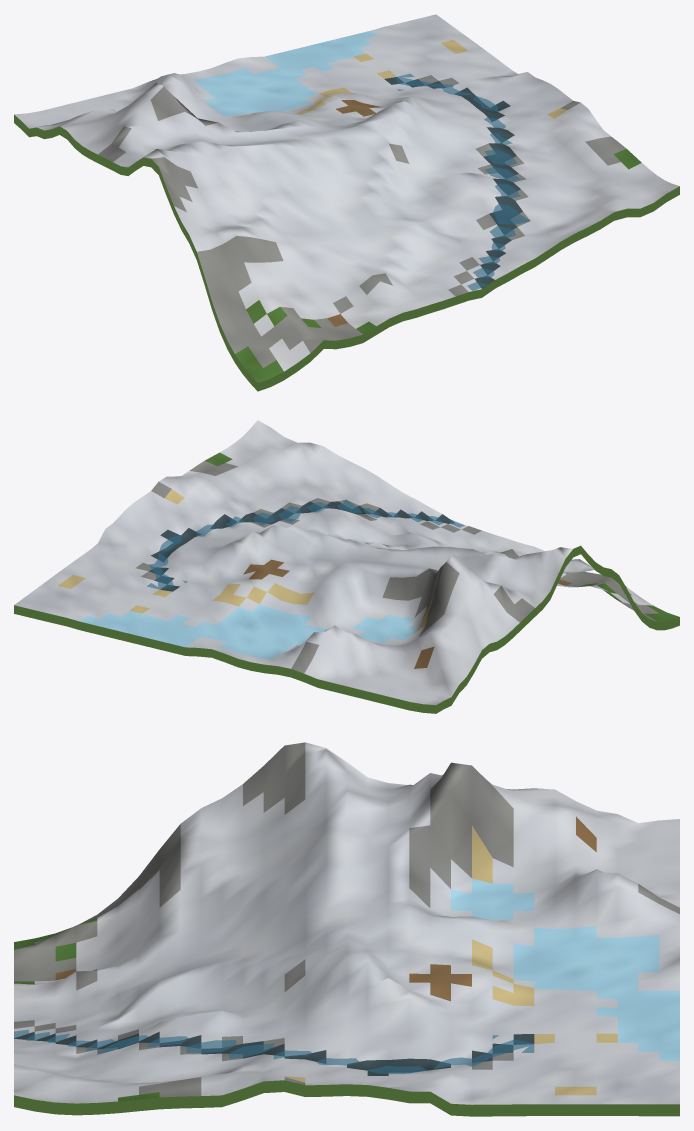
The model's file is chunk_6_2_lod1.glb.
3 views of the same model, one above another, from view 1: azimuth 30°, elevation 25°; view 2: azimuth 150°, elevation 25°; view 3: azimuth 270°, elevation 25° (orthographic). The views are drawn at different scales.
Visible parts, largest first — view 1: Surface_Snow, Surface_Gravel, Surface_Ice, Skirt, Surface_Water, Water, Surface_Grass, Surface_Sand, Surface_Dirt; view 2: Surface_Snow, Surface_Ice, Surface_Gravel, Skirt, Surface_Water, Water, Surface_Sand, Surface_Dirt, Surface_Grass; view 3: Surface_Snow, Surface_Gravel, Surface_Ice, Skirt, Surface_Water, Water, Surface_Sand, Surface_Dirt, Surface_Grass.
Part boxes in pixels (x1,y1,x2,y2): Surface_Snow: (14,14,679,371); Surface_Gravel: (98,75,626,367); Surface_Ice: (193,31,377,116); Skirt: (14,115,679,391); Surface_Water: (384,77,522,288); Water: (396,74,530,290); Surface_Grass: (235,149,641,382); Surface_Sand: (295,39,566,118); Surface_Dirt: (327,100,381,326); Surface_Snow: (14,420,652,705); Surface_Ice: (80,604,419,658); Surface_Gravel: (135,461,658,673); Skirt: (14,545,679,713); Surface_Water: (149,501,454,591); Water: (147,500,464,589); Surface_Sand: (58,489,432,633); Surface_Dirt: (243,559,571,668); Surface_Grass: (205,452,679,621); Surface_Snow: (14,742,679,1104); Surface_Gravel: (14,742,679,1097); Surface_Ice: (451,878,679,1060); Skirt: (14,1080,679,1116); Surface_Water: (14,1031,534,1075); Water: (14,1029,534,1073); Surface_Sand: (284,825,617,1095); Surface_Dirt: (55,816,596,1001); Surface_Grass: (14,918,159,1101).
Size of the model in its own units: 256 by 99.78 by 256.
